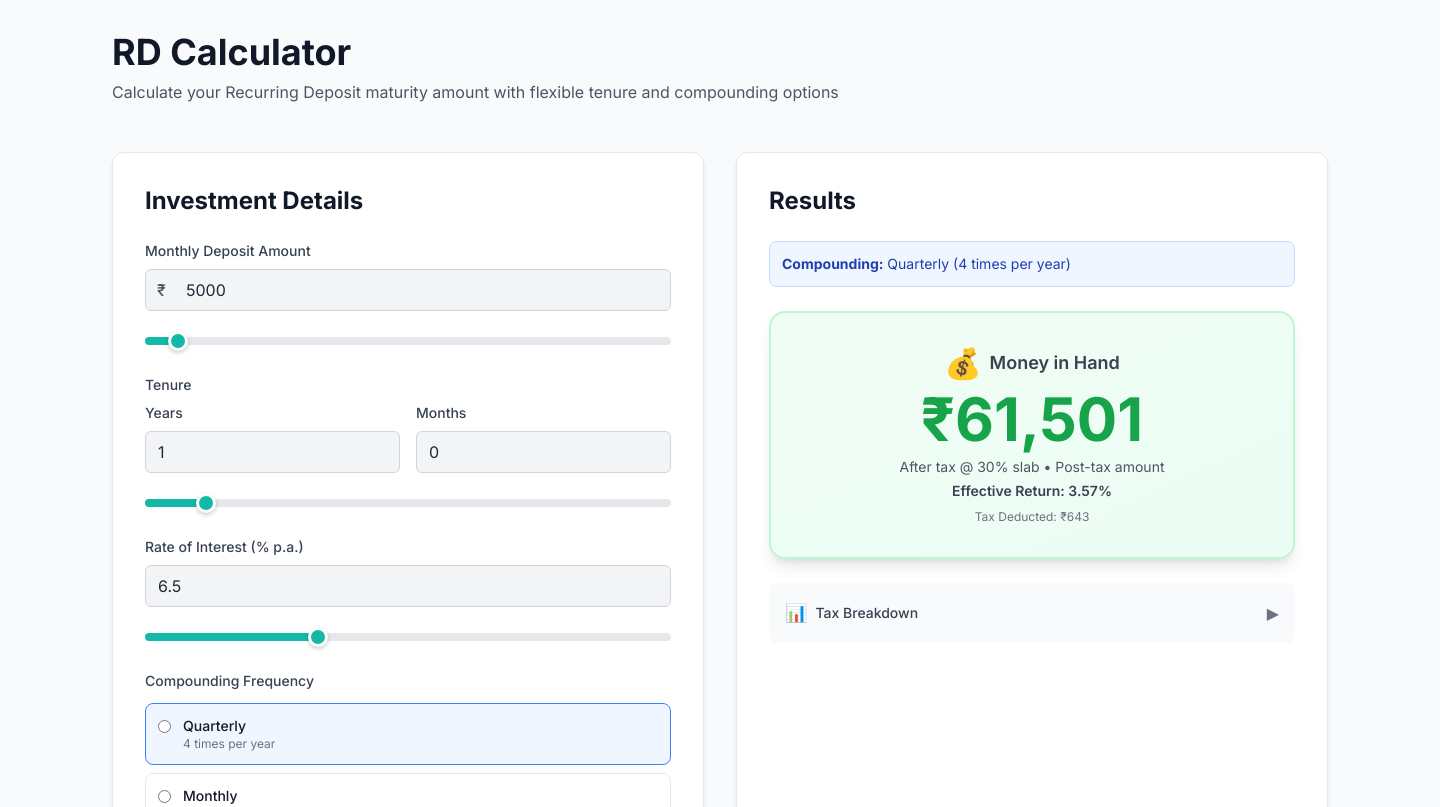
Test: RD Calculator › RD-09: Invalid max tenure validation › shows error when tenure exceeds 10 years
Replace the text in the number field below "Years" with "11": (272, 452) [145,431,400,473]
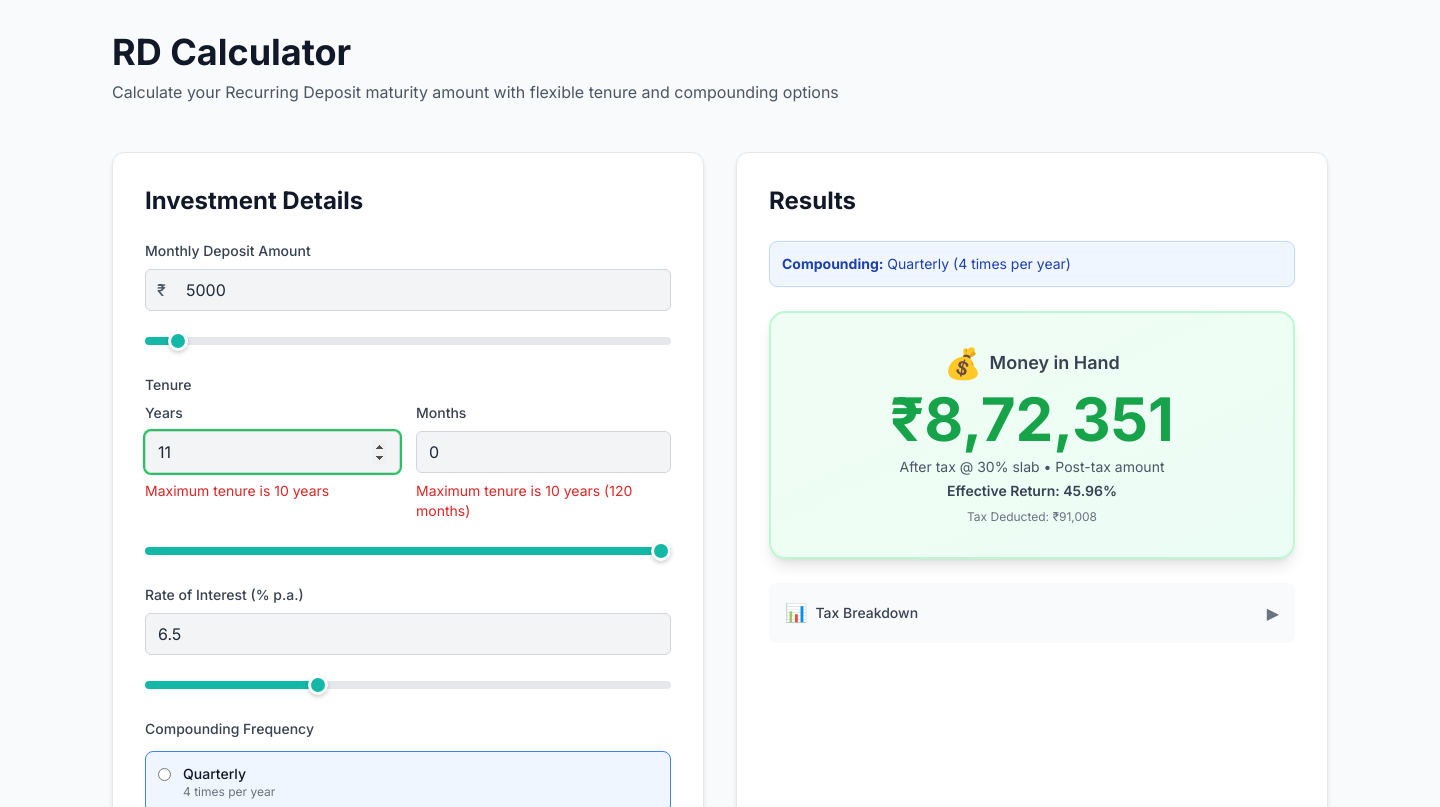
Expected: the text "Maximum tenure is 10 years" is shown, [145,482,329,499]
